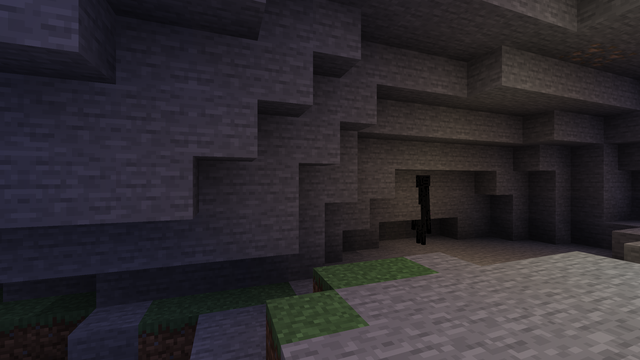endermens: (409, 172, 431, 245)
